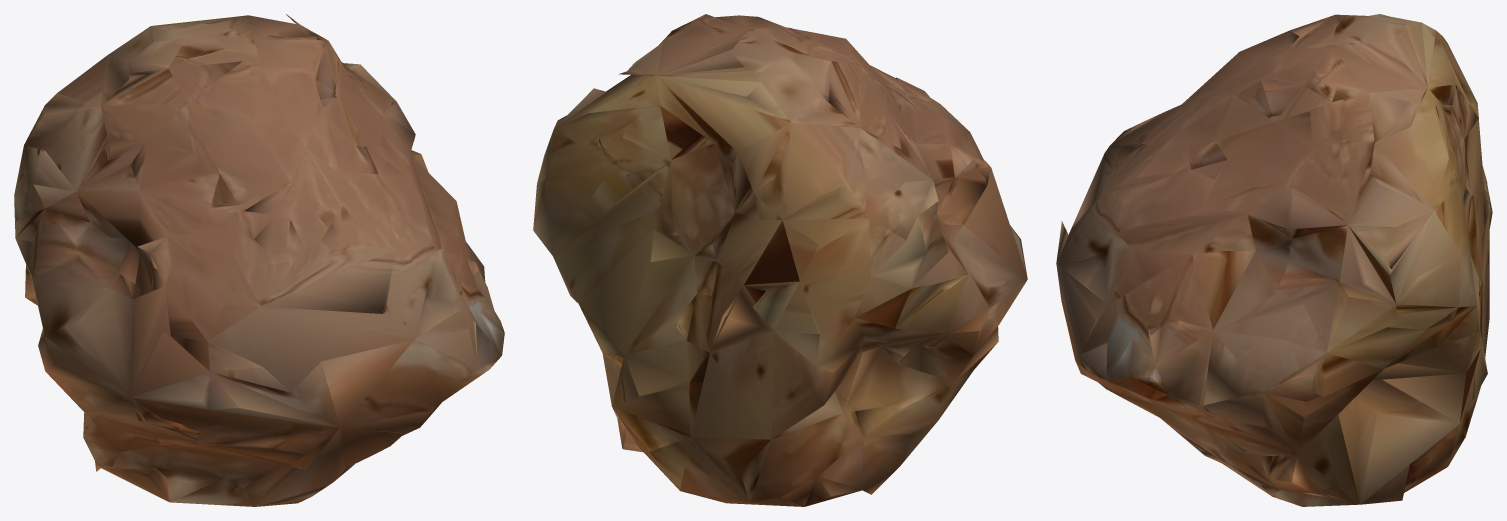
The model's file is rock-arid-sandstone.glb.
3 views of the same model, side by side, from view 1: azimuth 30°, elevation 25°; view 2: azimuth 150°, elevation 25°; view 3: azimuth 270°, elevation 25° (orthographic).
Parts seen in each view (by area): view 1: tripo_node_fb1ba3b2-1f82-4e24-8dcb-f4a0bd321032; view 2: tripo_node_fb1ba3b2-1f82-4e24-8dcb-f4a0bd321032; view 3: tripo_node_fb1ba3b2-1f82-4e24-8dcb-f4a0bd321032.
Part boxes in pixels (x1,y1,x2,y2): tripo_node_fb1ba3b2-1f82-4e24-8dcb-f4a0bd321032: (14,14,504,506); tripo_node_fb1ba3b2-1f82-4e24-8dcb-f4a0bd321032: (533,14,1027,506); tripo_node_fb1ba3b2-1f82-4e24-8dcb-f4a0bd321032: (1056,14,1492,506).
Size of the model in its own units: 1.3 by 1.3 by 1.17.
1 material, 1 textured.
